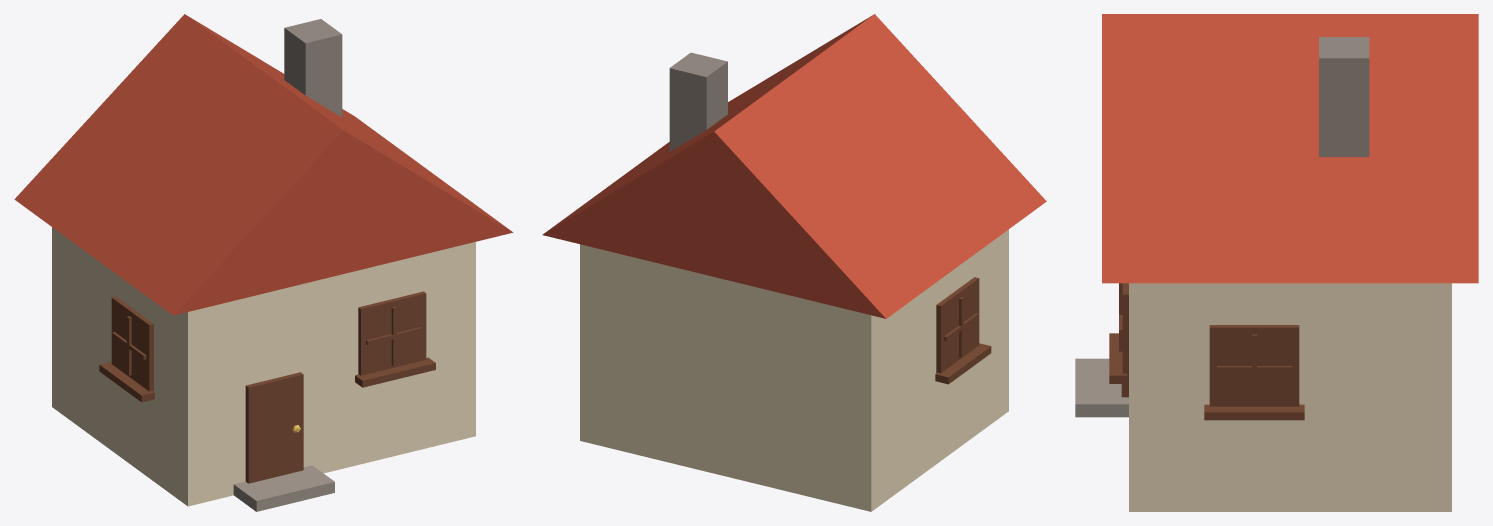
File: house.glb
The picture shows the model from 3 angles, left to right: view 1: azimuth 30°, elevation 25°; view 2: azimuth 150°, elevation 25°; view 3: azimuth 270°, elevation 25°; orthographic projection. The views are drawn at different scales.
Parts seen in each view (by area): view 1: house; view 2: house; view 3: house.
Boxes of the visible parts, bbox=[...] form: house: bbox=[14, 14, 513, 511]; house: bbox=[542, 14, 1046, 511]; house: bbox=[1075, 14, 1478, 511].
Size of the model in its own units: 2.6 by 2.6 by 2.25.
